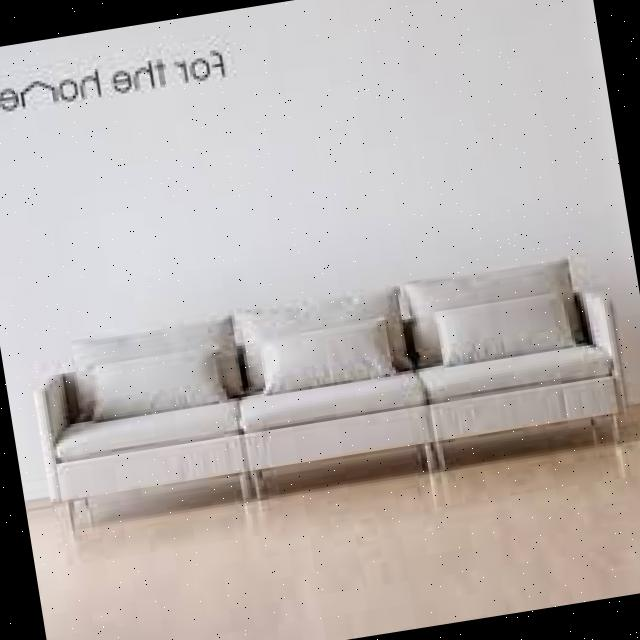Sofa: (10, 205, 640, 559)
